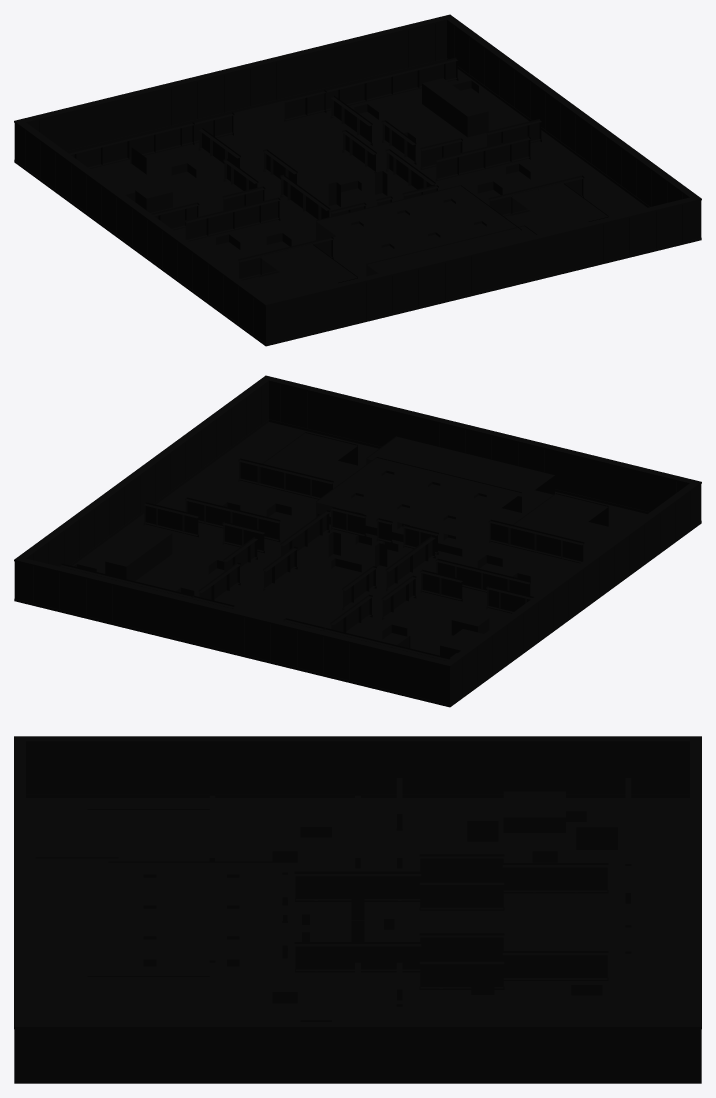
The model's file is transit_shell.glb.
3 renders of one model, top to bottom at view 1: azimuth 30°, elevation 25°; view 2: azimuth 150°, elevation 25°; view 3: azimuth 270°, elevation 25°, orthographic. The views are drawn at different scales.
Visible parts, largest first — view 1: transit_shell; view 2: transit_shell; view 3: transit_shell.
Boxes of the visible parts, box(x1,y1,x2,y2) form: transit_shell: box(14, 14, 701, 346); transit_shell: box(14, 375, 701, 707); transit_shell: box(14, 736, 701, 1083).
Bounding box in the file's own units: 66.16 × 6.12 × 66.16.
Materials: 1 (1 with a texture image).
